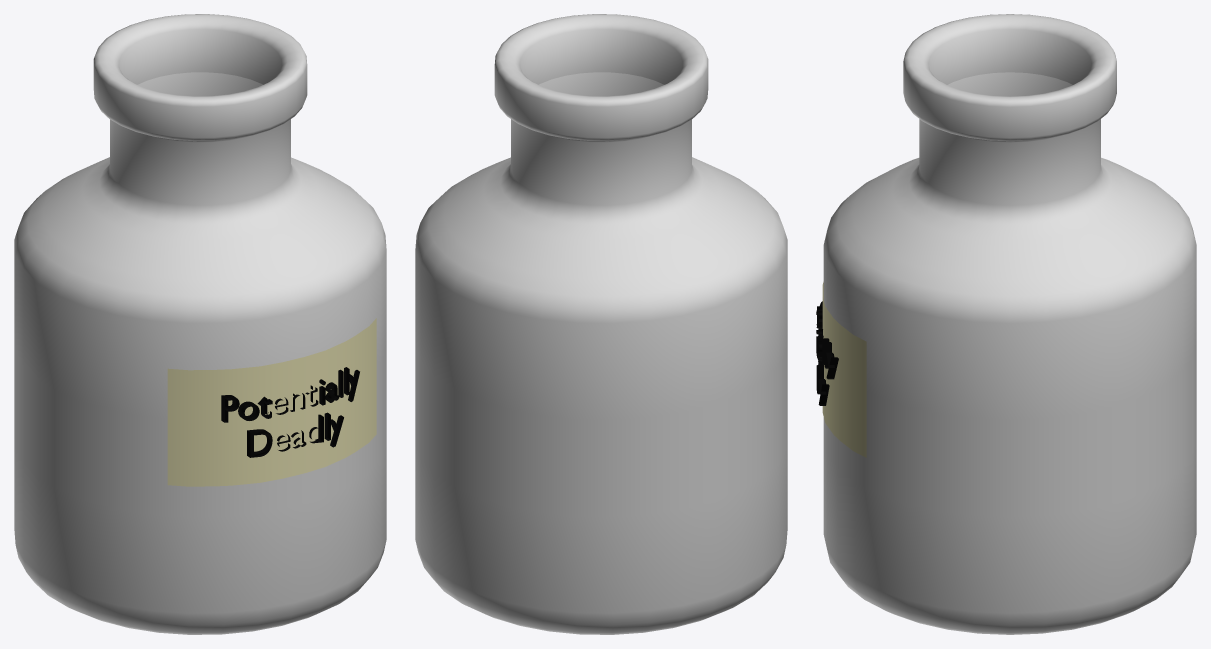
Rendered from Potion_4.fbx.
3 views of the same model, side by side, from view 1: azimuth 30°, elevation 25°; view 2: azimuth 150°, elevation 25°; view 3: azimuth 270°, elevation 25° (orthographic).
Visible parts, largest first — view 1: Text; view 2: Text; view 3: Text.
Part boxes in pixels (x1=…): Text: x1=14, y1=14, x2=386, y2=634; Text: x1=415, y1=14, x2=787, y2=634; Text: x1=816, y1=14, x2=1196, y2=634.
Size of the model in its own units: 100 by 151 by 102.
